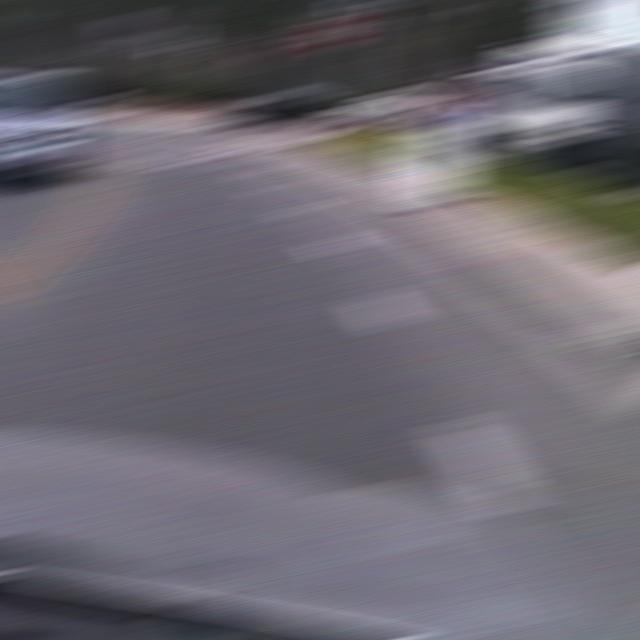stop_sign: (310, 17, 360, 51), (240, 42, 277, 66)
